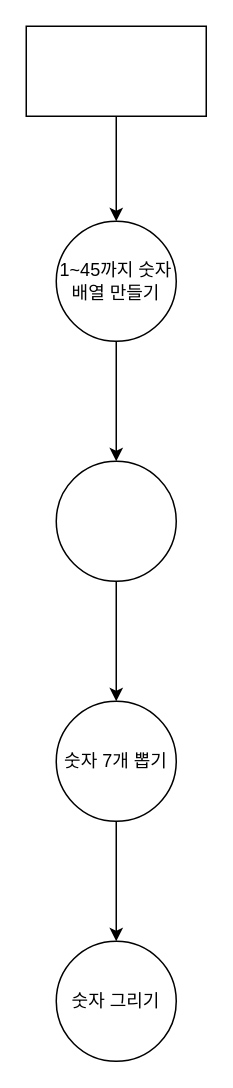
Some shapes in this 233 by 1088 pixel diagram are drawn without their labels. Here are the shapes that lost their labels. From the top down, the centre of each, then its label:
At point 115,70: "시작".
At point 115,520: "숫자 섞기".
